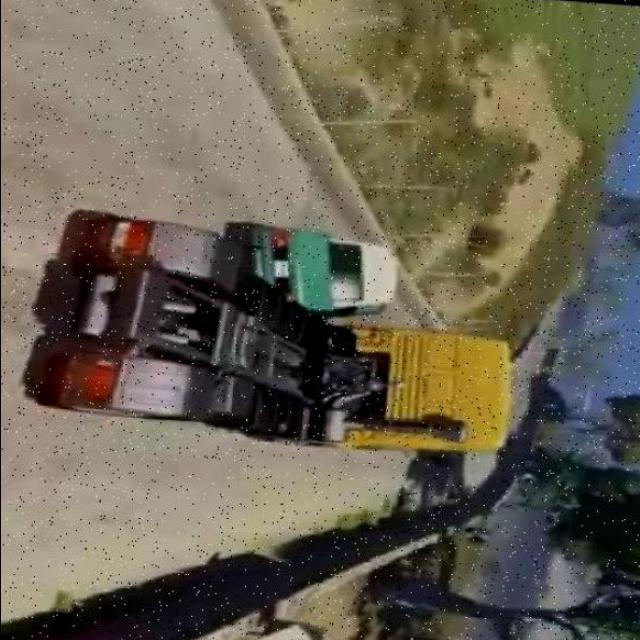accident: (199, 228, 393, 398)
